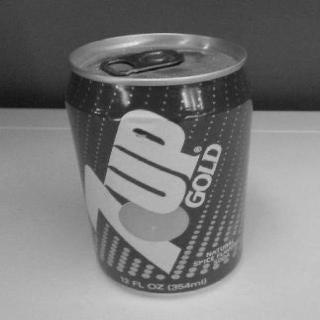alumunium_can: (63, 32, 254, 298)
